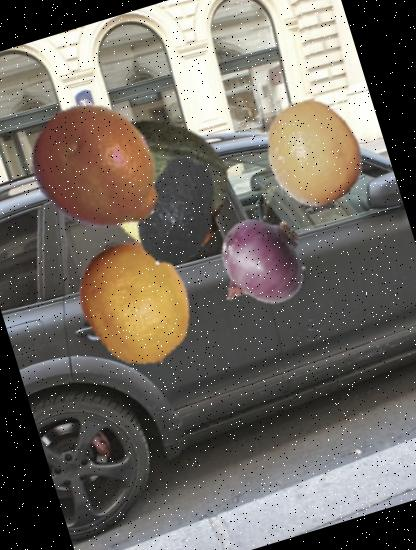Avocado: (107, 140, 249, 282)
Carambula: (70, 114, 240, 284)
Lemon: (59, 226, 216, 382), (245, 84, 380, 220)
Melon: (69, 78, 250, 260)
Onion: (200, 204, 320, 324)
Tangelo: (11, 83, 185, 257)
